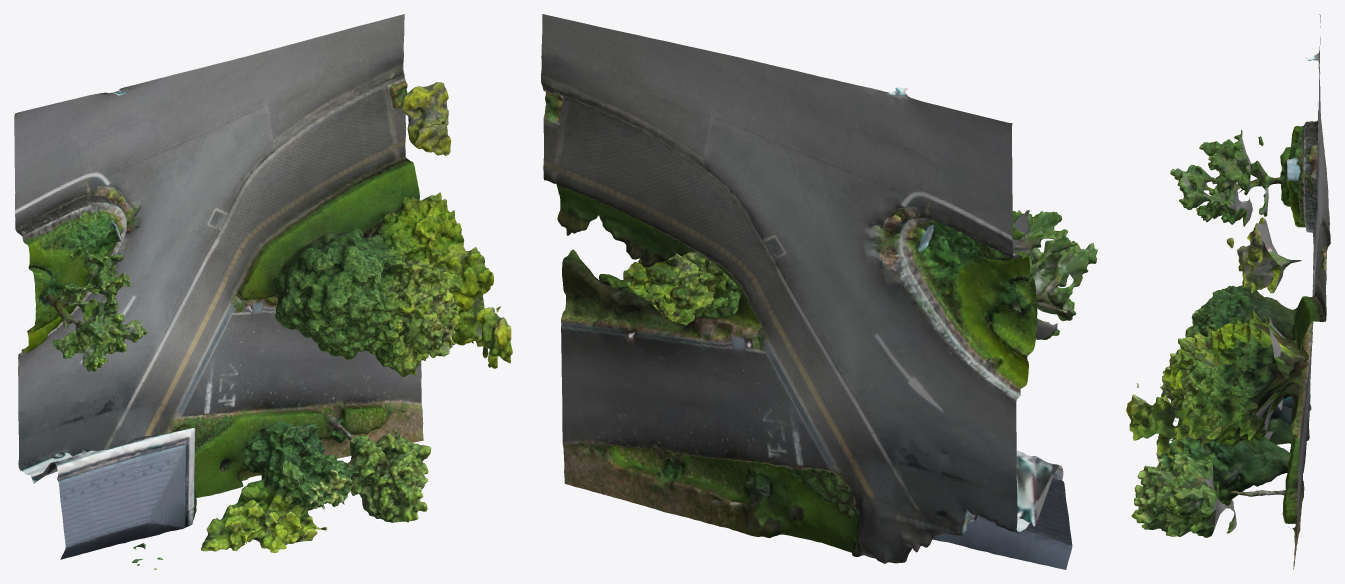
Rendered from Tile_+008_+028.fbx.
3 views of the same model, side by side, from view 1: azimuth 30°, elevation 25°; view 2: azimuth 150°, elevation 25°; view 3: azimuth 270°, elevation 25° (orthographic). The views are drawn at different scales.
Parts seen in each view (by area): view 1: DefaultName; view 2: DefaultName; view 3: DefaultName.
Part boxes in pixels (x1,y1,x2,y2): DefaultName: [14, 14, 512, 569]; DefaultName: [541, 14, 1097, 569]; DefaultName: [1126, 14, 1330, 569].
Size of the model in its own units: 22.54 by 22.54 by 11.02.
